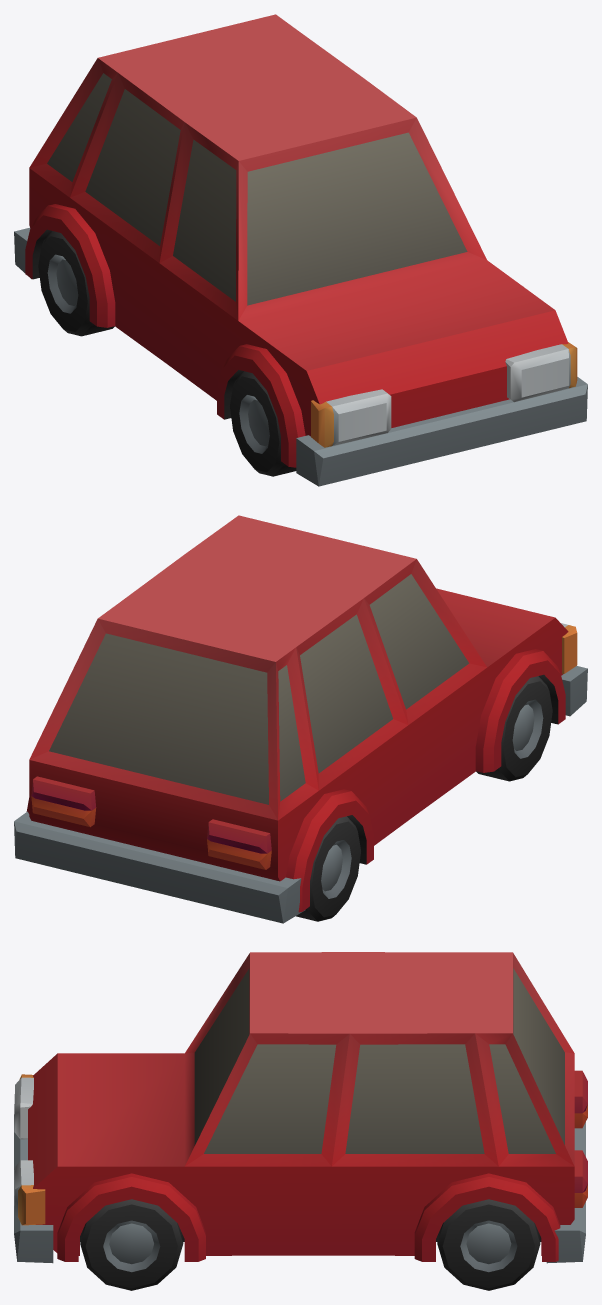
Rendered from city-car-hatchback.glb.
3 views of the same model, one above another, from view 1: azimuth 30°, elevation 25°; view 2: azimuth 150°, elevation 25°; view 3: azimuth 270°, elevation 25° (orthographic). The views are drawn at different scales.
Parts seen in each view (by area): view 1: car_hatchback, car_hatchback_wheel_rear_right, car_hatchback_wheel_front_right; view 2: car_hatchback, car_hatchback_wheel_front_right, car_hatchback_wheel_rear_right; view 3: car_hatchback, car_hatchback_wheel_front_left, car_hatchback_wheel_rear_left.
Part boxes in pixels (<box>): car_hatchback: <box>14,14,587,486</box>; car_hatchback_wheel_rear_right: <box>38,231,114,336</box>; car_hatchback_wheel_front_right: <box>230,371,296,476</box>; car_hatchback: <box>14,515,587,923</box>; car_hatchback_wheel_front_right: <box>476,676,552,781</box>; car_hatchback_wheel_rear_right: <box>296,816,360,921</box>; car_hatchback: <box>14,952,587,1263</box>; car_hatchback_wheel_front_left: <box>80,1199,183,1290</box>; car_hatchback_wheel_rear_left: <box>437,1199,540,1290</box>.
Bounding box in the file's own units: 0.419 × 0.3688 × 0.8061.
